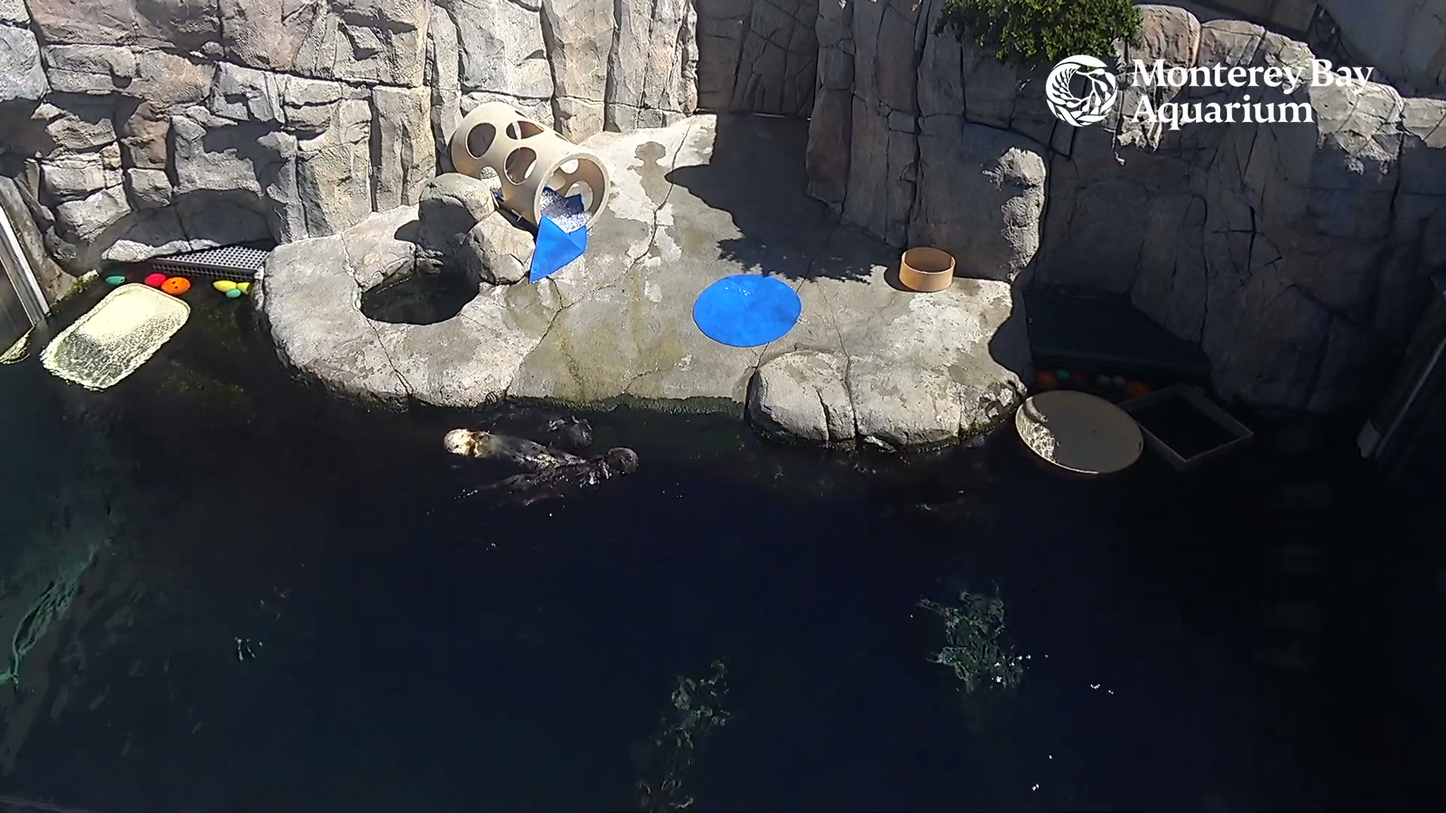Southern Sea Otter: (507, 426, 693, 534), (445, 420, 577, 479)
